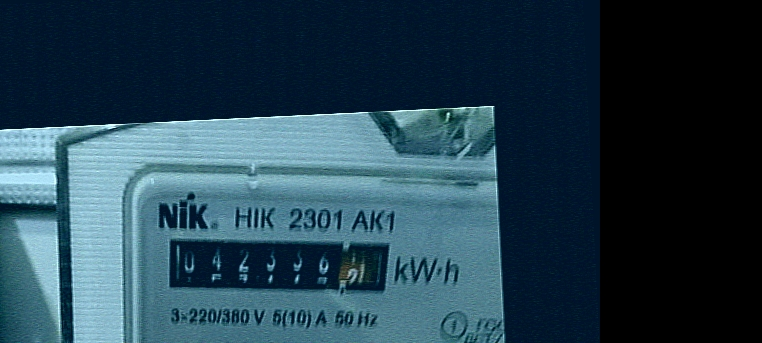0: (179, 249, 194, 278)
2: (231, 248, 251, 276)
3: (258, 247, 276, 276), (287, 246, 303, 275)
4: (205, 248, 223, 276)
6: (313, 251, 329, 279)
screen: (153, 222, 397, 314)
